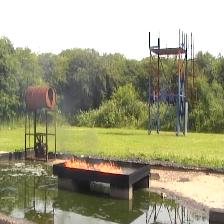fire: (94, 158, 123, 173), (64, 157, 90, 170)
